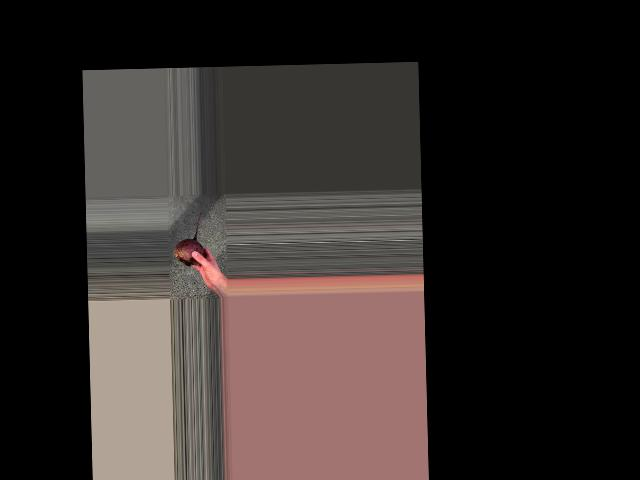beet: (172, 211, 204, 266)
